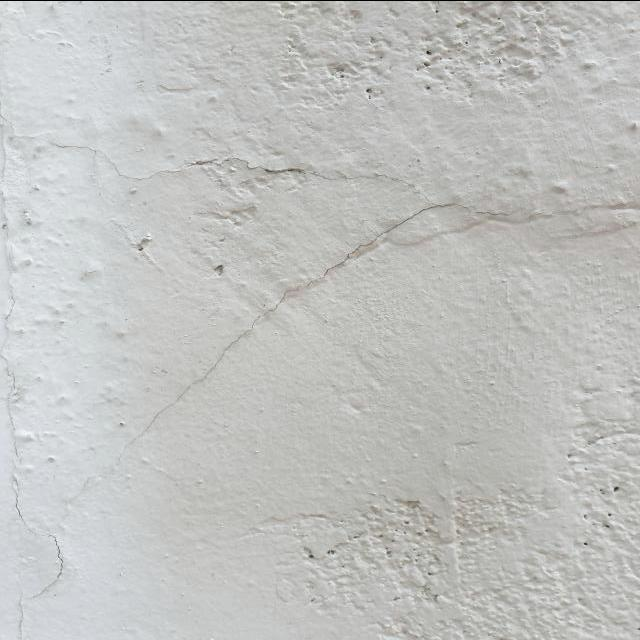SurfaceCrack: (45, 176, 639, 472)
